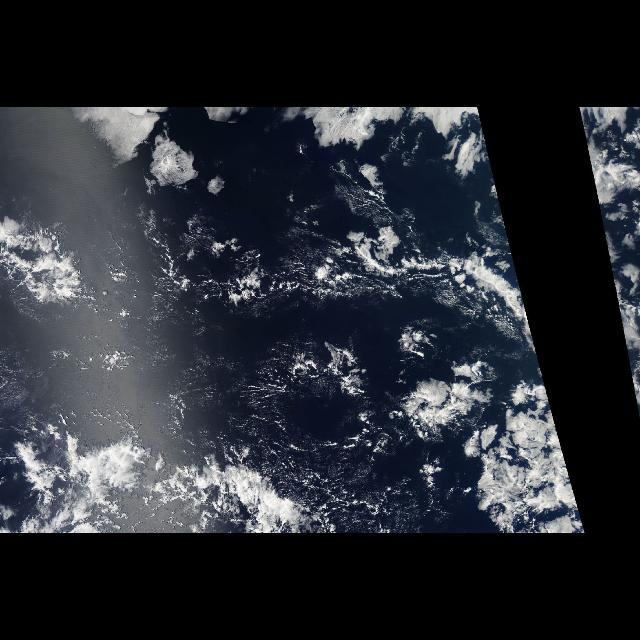Fish: (2, 218, 538, 359), (9, 397, 371, 533)
Flower: (5, 109, 588, 534), (578, 108, 640, 420)
